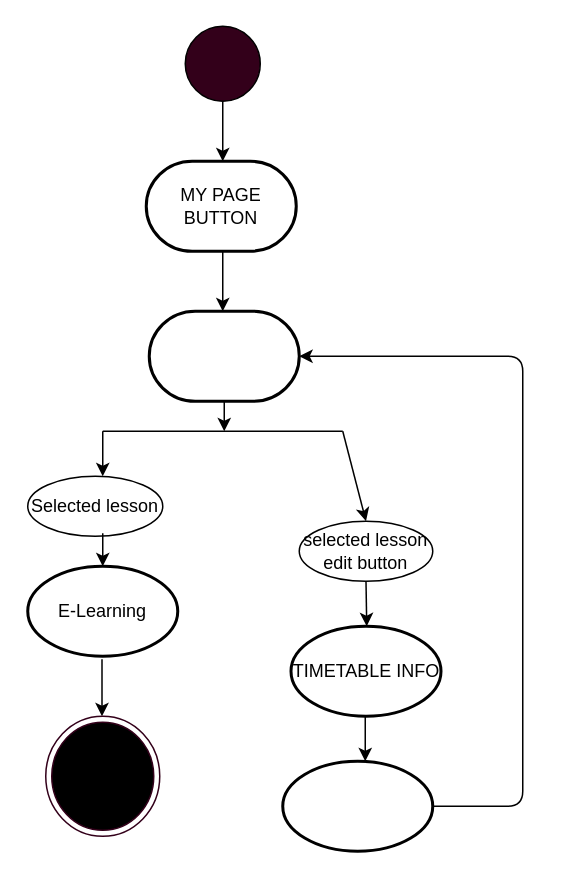
The diagram is 561 pixels wide and 879 high, and some of its shapes have lost their labels. The centre of each missing label's shape, as x and y in pixels:
"delete button" belongs at [357,805].
"TIMETABLE" belongs at [223,355].
